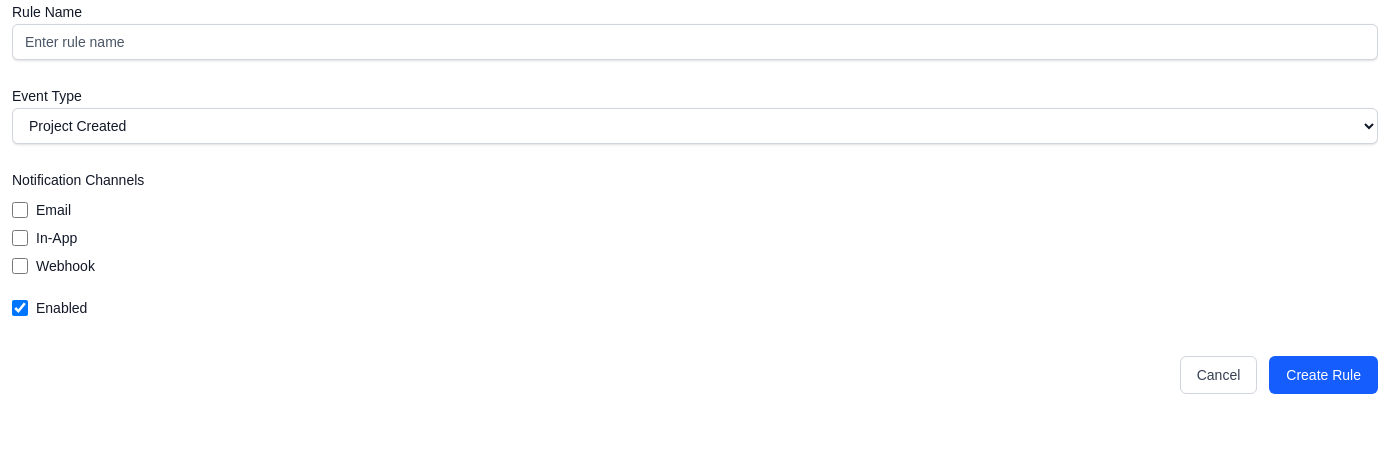
Test: NotificationRuleForm › should validate required fields
Click the button "Create Rule": (1324, 375) 1269,356 -> 1378,394
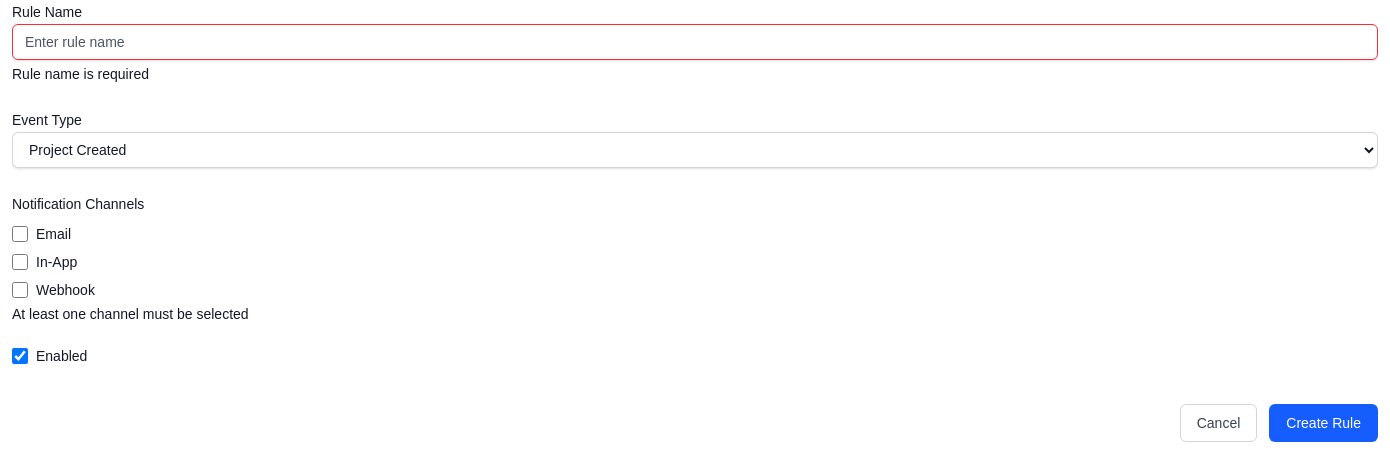
Result: the text "Rule name is required" is shown at 12,66 -> 149,82
